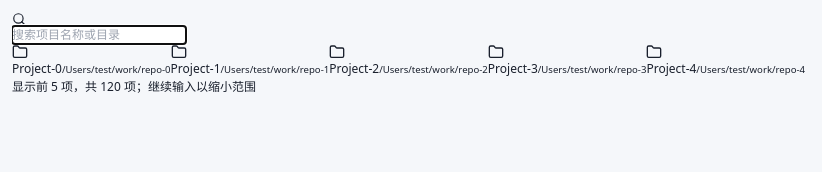
Scenario: project selectors › reports empty results rather than silently falling back to first five
Type "not-found" into the field named "检索会话项目".
click(99, 35); type("not-found")  # box [12, 26, 186, 44]
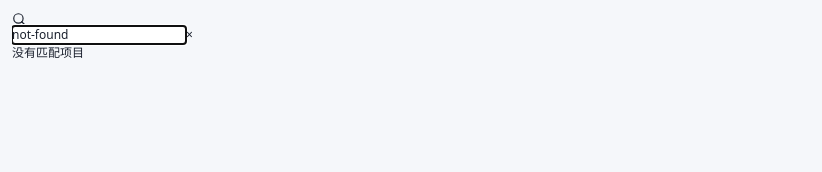
Expected: no options are shown
Expected: the text "没有匹配项目" is shown, [12, 44, 84, 61]
